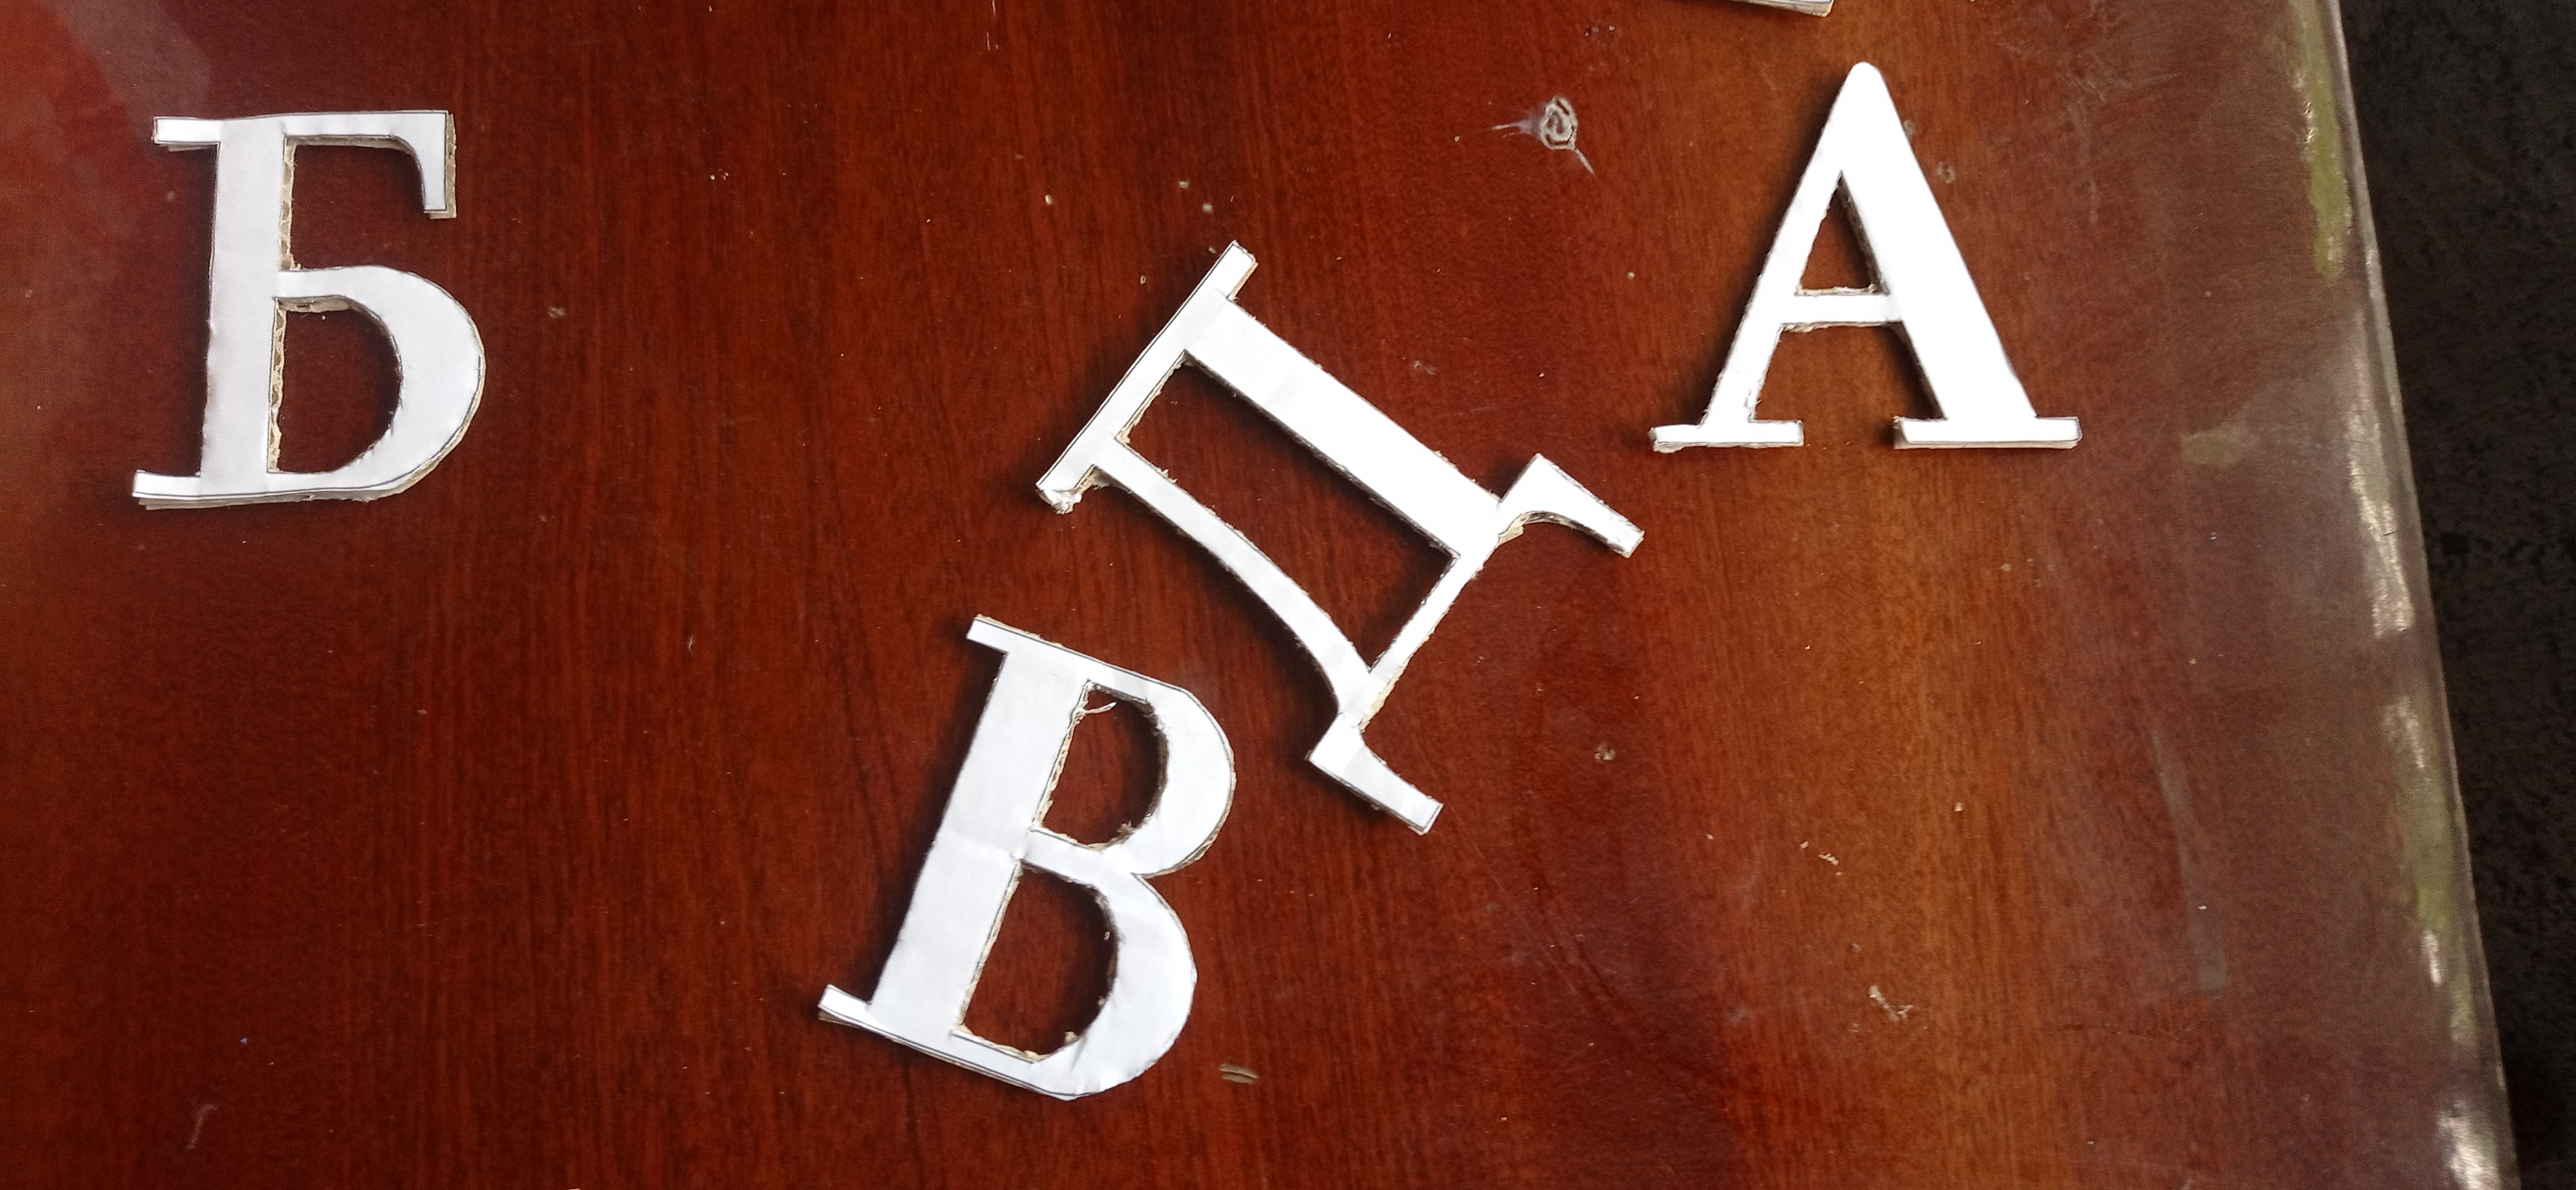a: (1640, 56, 2088, 459)
b: (138, 107, 493, 518)
d: (1028, 233, 1643, 840)
v: (805, 608, 1239, 1106)
